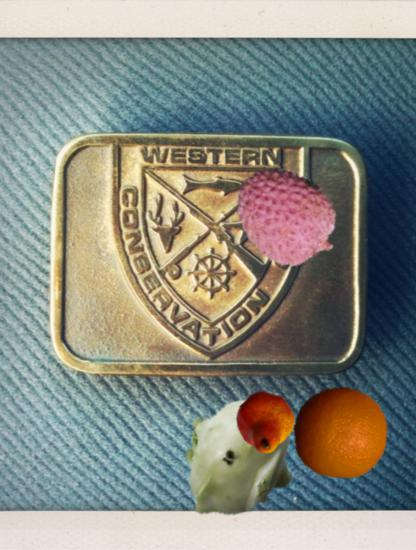Kohlrabi: (166, 379, 315, 528)
Lychee: (229, 160, 344, 275)
Orange: (293, 384, 389, 480)
Pear: (236, 391, 295, 450)
